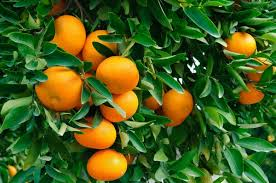orange: (33, 67, 85, 112), (48, 12, 86, 58), (97, 56, 139, 95), (87, 149, 130, 180), (165, 86, 192, 126), (225, 30, 257, 62)
